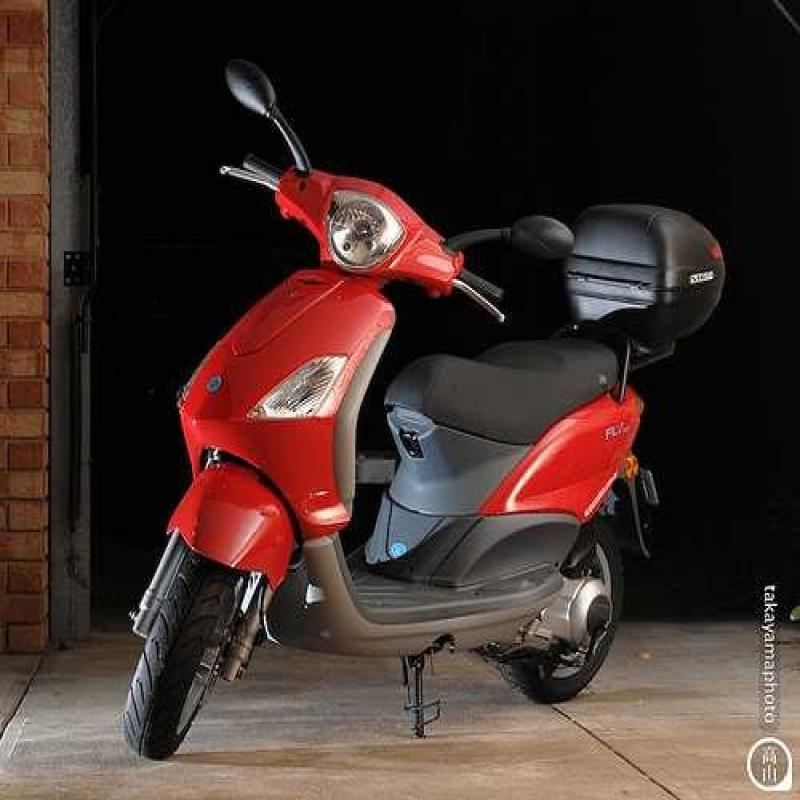bike: (98, 61, 711, 758)
